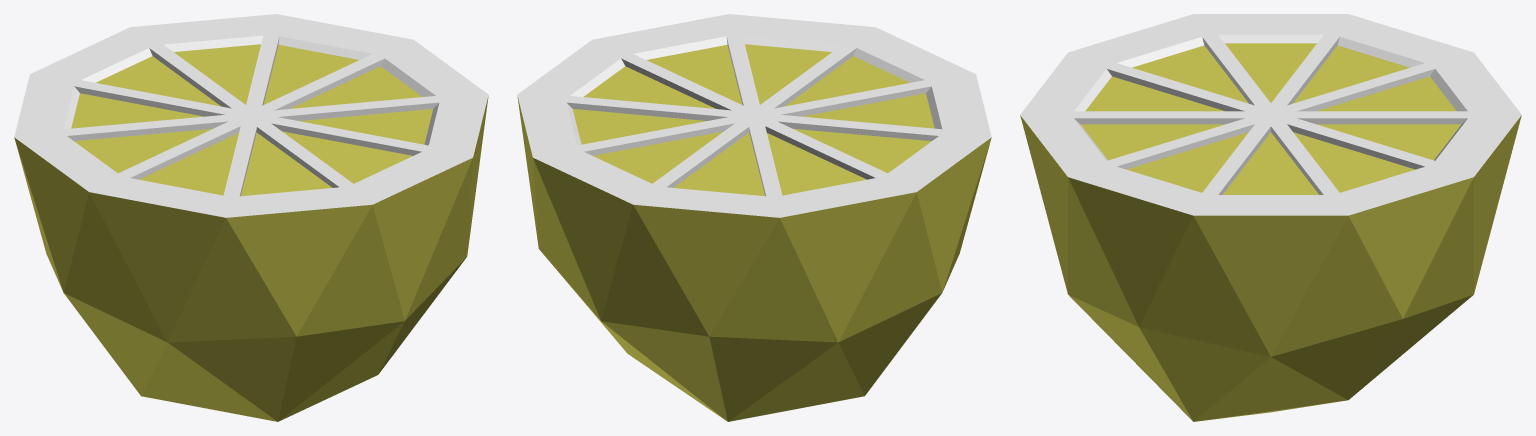
File: lemon.glb
The picture shows the model from 3 angles, left to right: view 1: azimuth 30°, elevation 25°; view 2: azimuth 150°, elevation 25°; view 3: azimuth 270°, elevation 25°; orthographic projection. The views are drawn at different scales.
Parts seen in each view (by area): view 1: Icosphere; view 2: Icosphere; view 3: Icosphere.
Part boxes in pixels (x1,y1,x2,y2): Icosphere: (14, 14, 488, 421); Icosphere: (517, 14, 991, 421); Icosphere: (1020, 14, 1521, 421).
Bounding box in the file's own units: 1.9 × 1.31 × 2.
